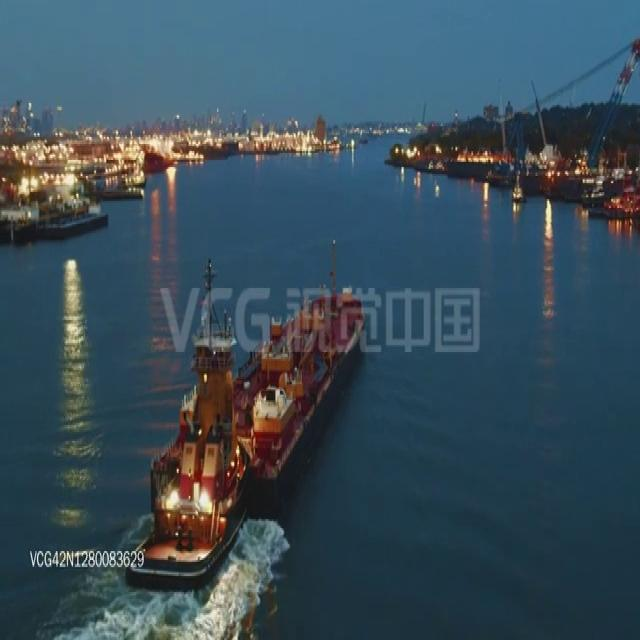cargoship: (130, 290, 365, 586)
